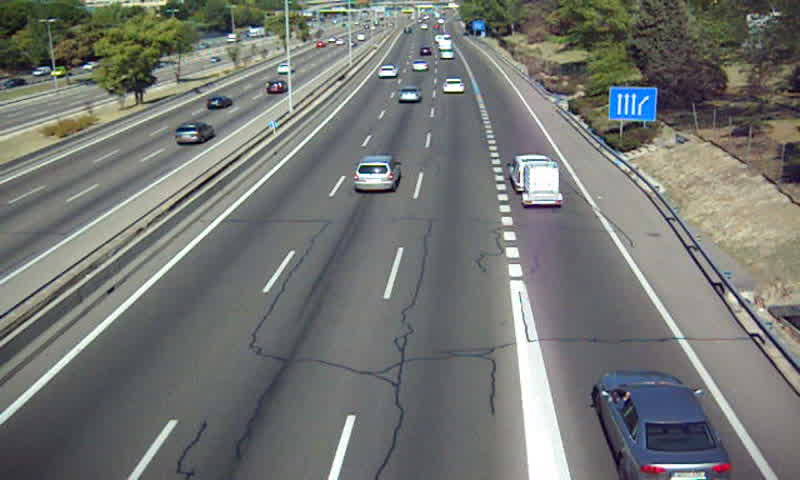car: (597, 371, 730, 480), (355, 155, 401, 193), (396, 86, 423, 104), (442, 78, 464, 95), (411, 58, 430, 73), (378, 64, 397, 79), (441, 49, 455, 60)
van: (510, 155, 554, 193)
